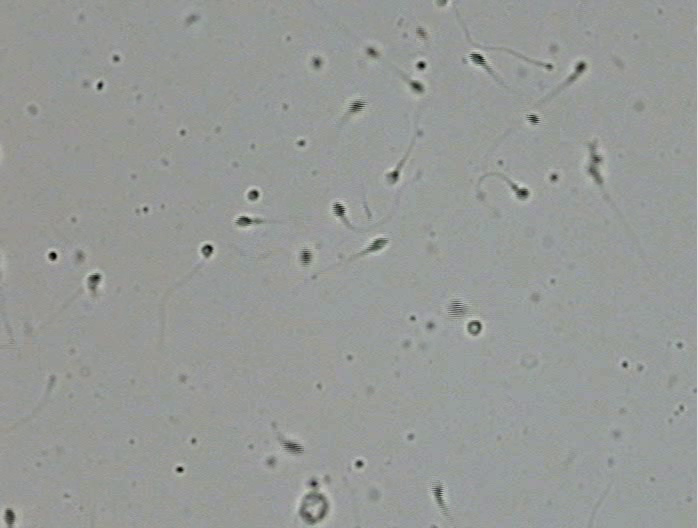Impurity: (299, 478, 329, 524)
S: (447, 299, 467, 319), (280, 440, 304, 455), (366, 238, 388, 253), (511, 183, 529, 201), (298, 246, 313, 267), (3, 508, 16, 528), (347, 100, 367, 113), (469, 52, 486, 67), (586, 164, 601, 181), (431, 481, 443, 502), (467, 320, 482, 336), (87, 273, 101, 289), (332, 202, 346, 218), (409, 80, 424, 94), (235, 216, 253, 227), (201, 244, 214, 258), (386, 170, 399, 184), (574, 61, 586, 76), (526, 113, 540, 125), (590, 150, 602, 164), (247, 189, 260, 201), (365, 47, 379, 58), (416, 27, 426, 38), (415, 61, 427, 70), (313, 58, 322, 67), (436, 1, 447, 7)
